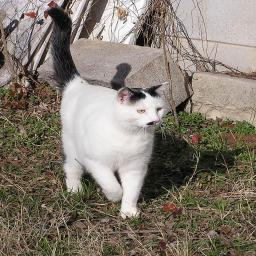catnose: (150, 118, 160, 125)
